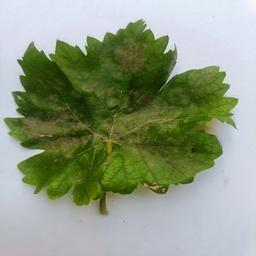Powdery-Mildew: (29, 109, 77, 140), (114, 108, 157, 142), (119, 36, 156, 74), (82, 74, 122, 109), (55, 132, 96, 162), (162, 104, 190, 134), (139, 154, 154, 169)
